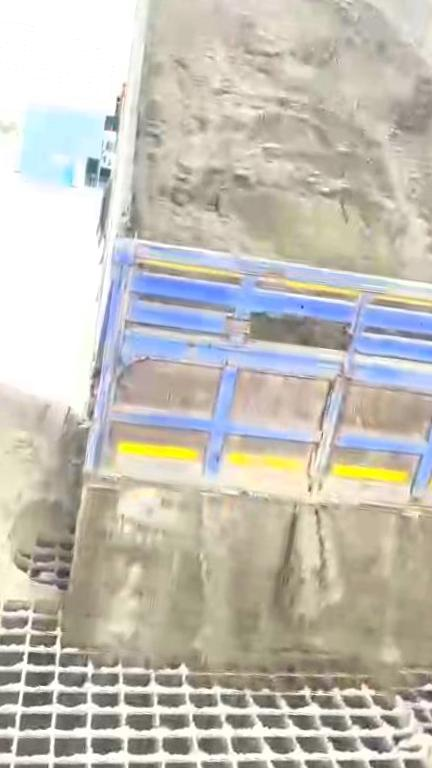sand: (130, 0, 432, 285), (65, 489, 432, 684), (0, 379, 79, 604)
